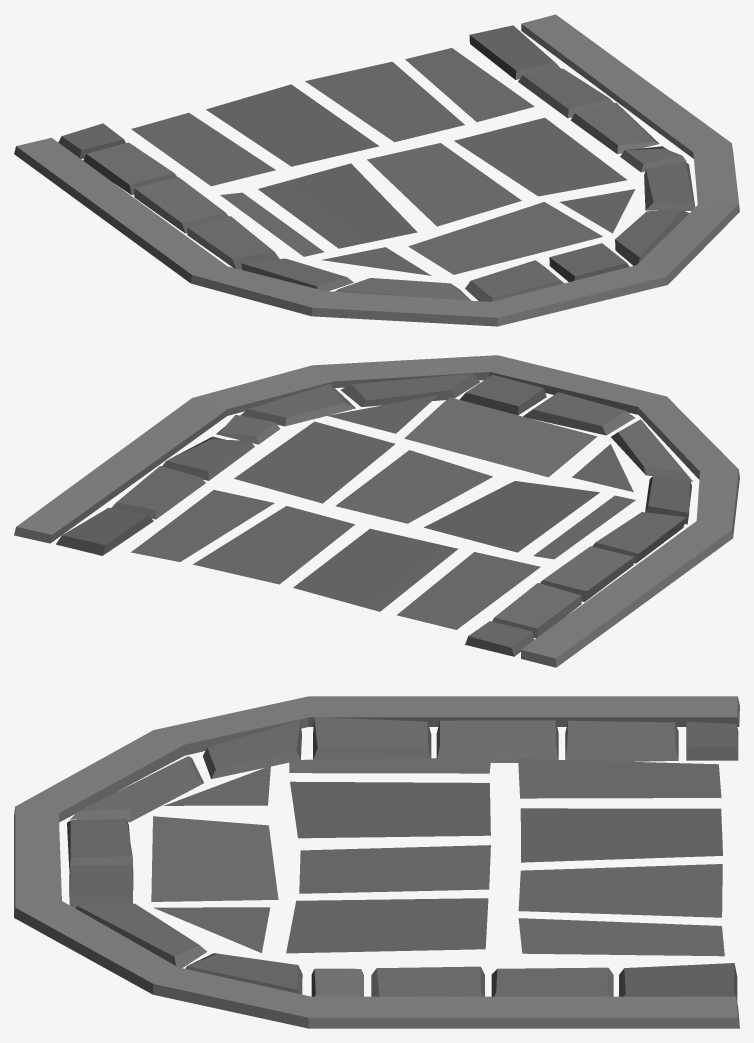
Rendered from Road Cobble End.glb.
The picture shows the model from 3 angles, top to bottom: view 1: azimuth 30°, elevation 25°; view 2: azimuth 150°, elevation 25°; view 3: azimuth 270°, elevation 25°; orthographic projection. The views are drawn at different scales.
Parts seen in each view (by area): view 1: RoadCobbleEnd; view 2: RoadCobbleEnd; view 3: RoadCobbleEnd.
Part boxes in pixels (left/top/right/bottom): RoadCobbleEnd: left=14, top=14, right=739, bottom=326; RoadCobbleEnd: left=14, top=355, right=739, bottom=667; RoadCobbleEnd: left=14, top=696, right=739, bottom=1028.
Size of what is drawn, in the model's own units: 2 by 0.0431 by 1.9.
1 material, 1 textured.
